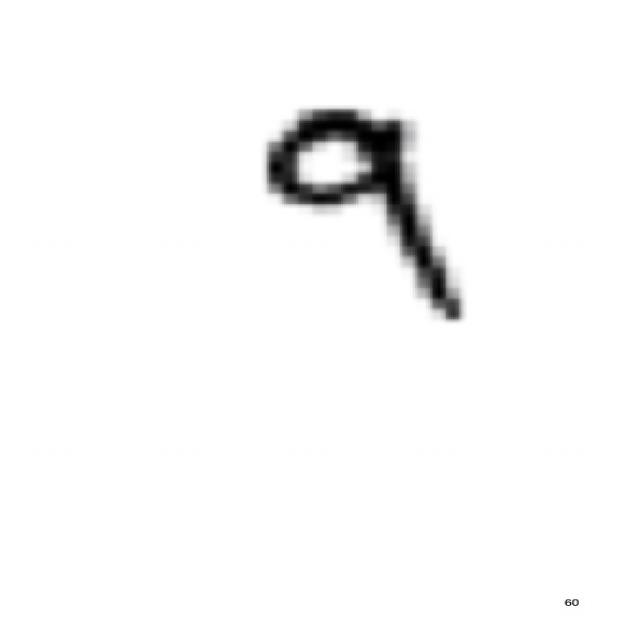9 -nine-: (250, 97, 484, 331)
